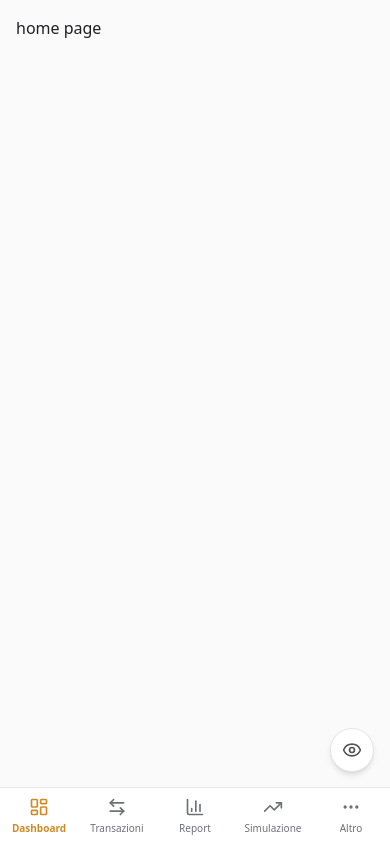
Scenario: Layout mobile bottom bar › closes the sheet when tapping the backdrop
Step 1. Click the button "Altro" → click(351, 816), box 312,788 -> 389,843
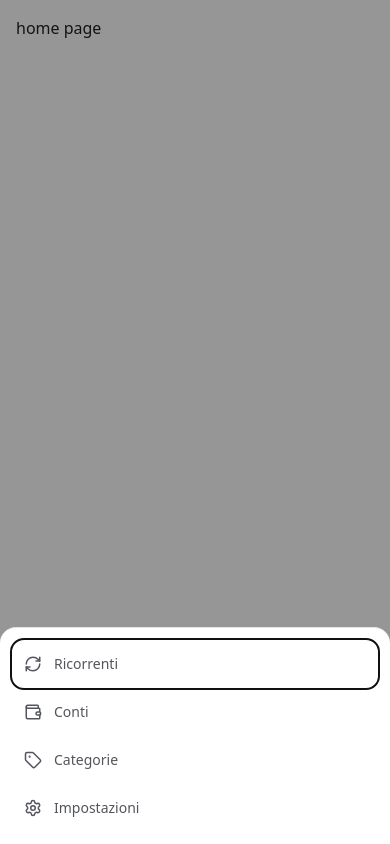
Step 2. Click the element with test id "more-sheet-backdrop" → click(195, 422), box 0,0 -> 389,843
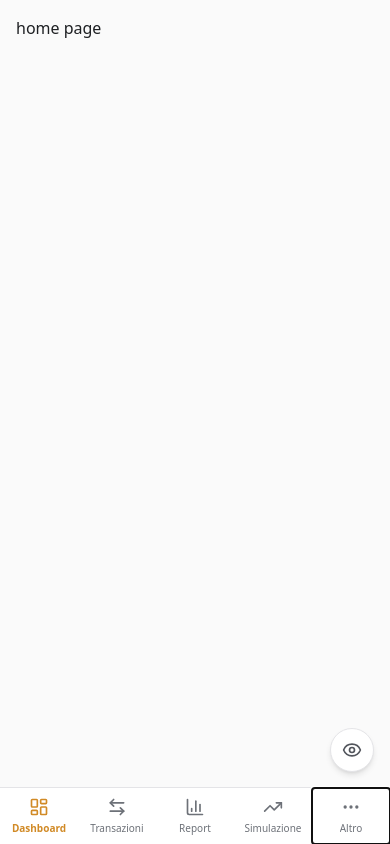
Result: the dialog is gone
